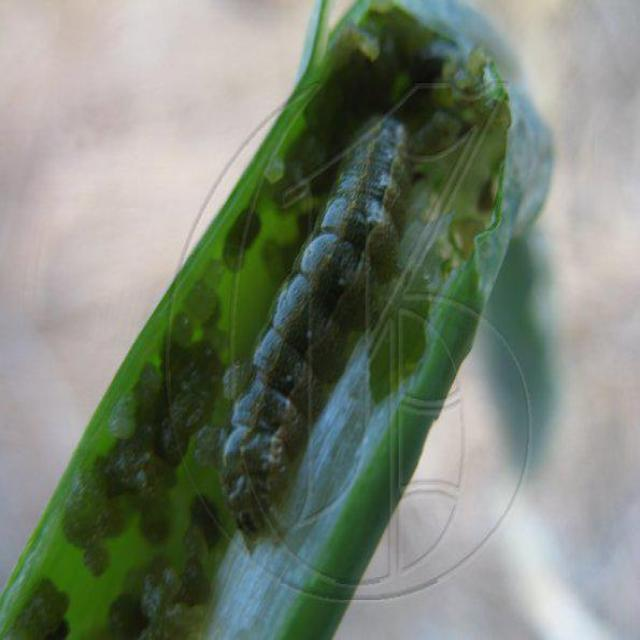BeetArmyWorm-Larva-: (218, 112, 416, 552)
